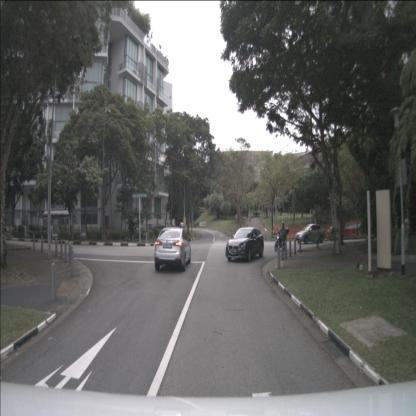vehicle-car: (155, 226, 192, 271), (225, 226, 264, 262), (295, 224, 326, 244)
vehicle-motorcycle: (274, 221, 290, 251)
